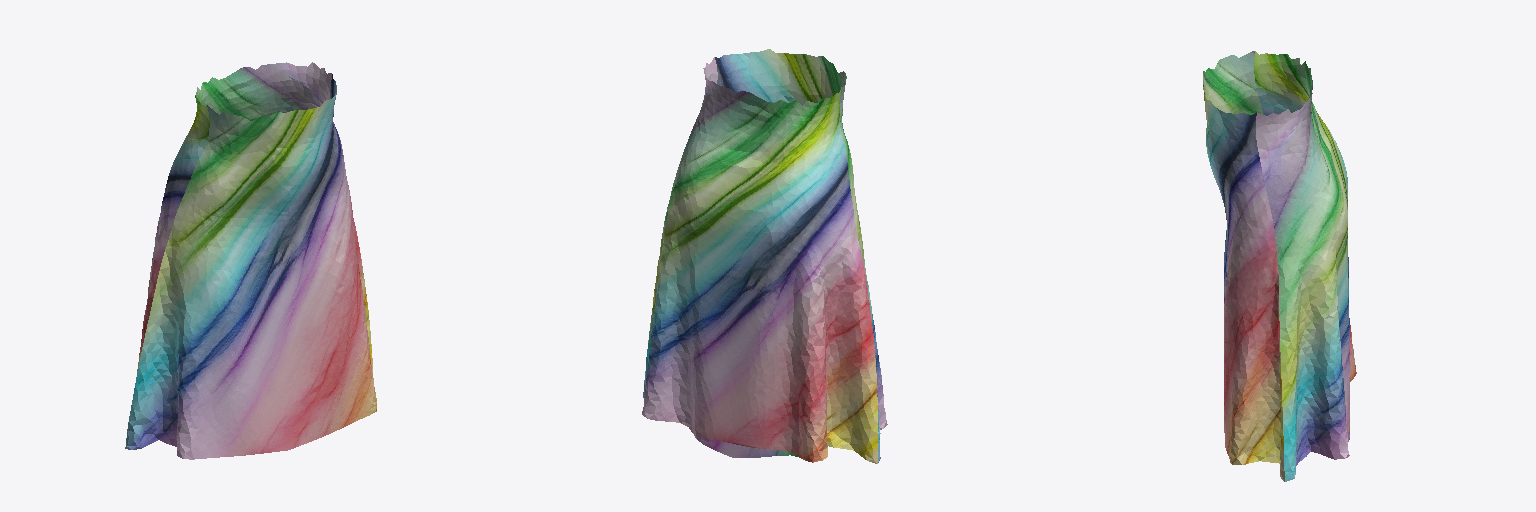
The picture shows the model from 3 angles: view 1: azimuth 30°, elevation 25°; view 2: azimuth 150°, elevation 25°; view 3: azimuth 270°, elevation 25°; orthographic projection.
Visible parts, largest first — view 1: FullDress_Cloth_Shape.004; view 2: FullDress_Cloth_Shape.004; view 3: FullDress_Cloth_Shape.004.
Boxes of the visible parts, x1,y1,x2,y2 form: FullDress_Cloth_Shape.004: [125, 62, 376, 459]; FullDress_Cloth_Shape.004: [642, 49, 887, 463]; FullDress_Cloth_Shape.004: [1203, 51, 1356, 481].
Size of the model in its own units: 2.5 by 3.5 by 1.38.
2 materials, 1 textured.